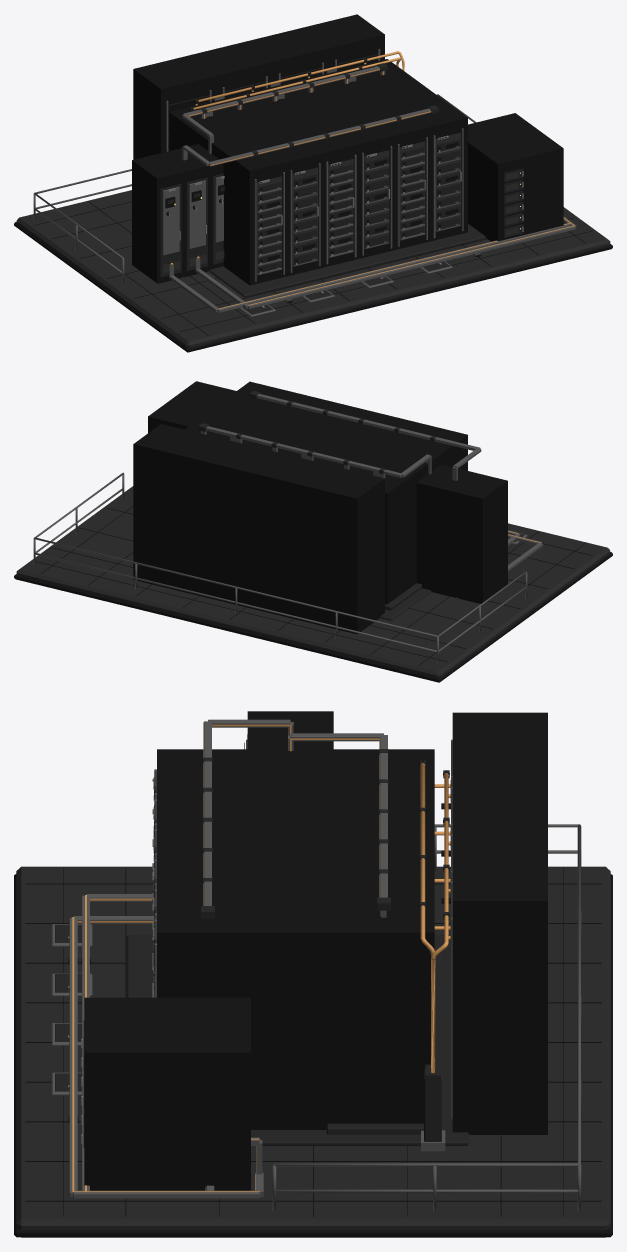
Rendered from facility.glb.
The picture shows the model from 3 angles, top to bottom: view 1: azimuth 30°, elevation 25°; view 2: azimuth 150°, elevation 25°; view 3: azimuth 270°, elevation 25°; orthographic projection. The views are drawn at different scales.
Visible parts, largest first — view 1: GN_PICK_WORKLOADS, GN_PLATFORM_Platform, GN_PICK_COOLING, GN_PICK_STORAGE, GN_WORKLOADS_Graphite, GN_WORKLOADS_Steel, GN_PICK_POWER, GN_POWER_Steel, GN_WORKLOADS_Grille, GN_PLATFORM_Dark, GN_PLATFORM_Graphite, GN_STORAGE_Steel (+9 smaller); view 2: GN_PICK_COOLING, GN_PLATFORM_Platform, GN_PICK_WORKLOADS, GN_PICK_POWER, GN_PLATFORM_Dark, GN_PLATFORM_Steel, GN_POWER_Steel, GN_PICK_STORAGE, GN_PLATFORM_Graphite, GN_STORAGE_Steel; view 3: GN_PICK_WORKLOADS, GN_PLATFORM_Platform, GN_PICK_COOLING, GN_PICK_STORAGE, GN_PLATFORM_Dark, GN_PLATFORM_Graphite, GN_STORAGE_Steel, GN_PLATFORM_Steel, GN_POWER_Steel, GN_ACCENT_COOLING_Copper, GN_PICK_POWER, GN_ACCENT_STORAGE_Copper (+4 smaller).
Part boxes in pixels (x1,y1,x2,y2): GN_PICK_WORKLOADS: (169, 59, 467, 285); GN_PLATFORM_Platform: (16, 190, 610, 347); GN_PICK_COOLING: (133, 14, 384, 159); GN_PICK_STORAGE: (468, 113, 563, 241); GN_WORKLOADS_Graphite: (200, 73, 460, 272); GN_WORKLOADS_Steel: (200, 71, 463, 281); GN_PICK_POWER: (132, 144, 223, 283); GN_POWER_Steel: (163, 66, 431, 255); GN_WORKLOADS_Grille: (257, 132, 460, 275); GN_PLATFORM_Dark: (14, 201, 612, 352); GN_PLATFORM_Graphite: (208, 224, 486, 314); GN_STORAGE_Steel: (169, 216, 576, 312); GN_PICK_COOLING: (133, 424, 384, 634); GN_PLATFORM_Platform: (16, 486, 610, 677); GN_PICK_WORKLOADS: (184, 381, 467, 604); GN_PICK_POWER: (416, 464, 507, 603); GN_PLATFORM_Dark: (14, 506, 612, 682); GN_PLATFORM_Steel: (33, 472, 527, 663); GN_POWER_Steel: (206, 394, 481, 480); GN_PICK_STORAGE: (148, 381, 236, 432); GN_PLATFORM_Graphite: (380, 533, 524, 620); GN_STORAGE_Steel: (508, 530, 542, 571); GN_PICK_WORKLOADS: (157, 749, 434, 1129); GN_PLATFORM_Platform: (16, 866, 610, 1237); GN_PICK_COOLING: (452, 712, 547, 1134); GN_PICK_STORAGE: (84, 997, 250, 1190); GN_PLATFORM_Dark: (14, 868, 612, 1237); GN_PLATFORM_Graphite: (55, 924, 468, 1145); GN_STORAGE_Steel: (69, 894, 263, 1198); GN_PLATFORM_Steel: (51, 824, 581, 1210); GN_POWER_Steel: (203, 719, 387, 905); GN_ACCENT_COOLING_Copper: (420, 763, 450, 1073); GN_PICK_POWER: (247, 711, 333, 749); GN_ACCENT_STORAGE_Copper: (72, 895, 259, 1192).
Bounding box in the file's own units: 10.86 × 3.59 × 7.66.
